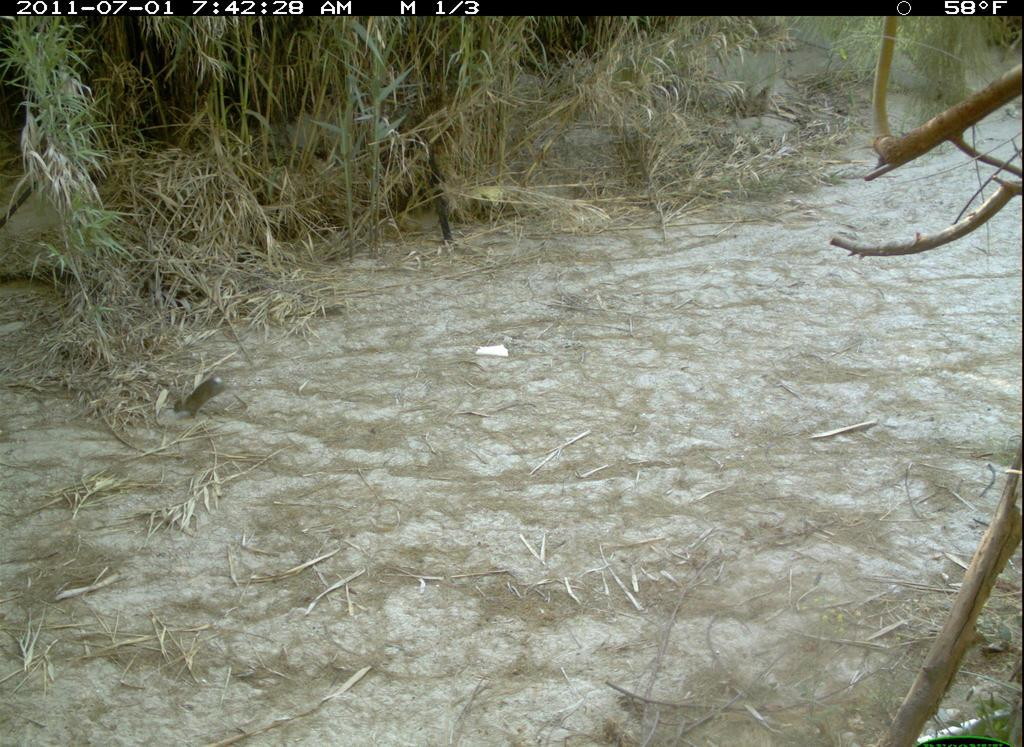rabbit: (149, 356, 249, 428)
